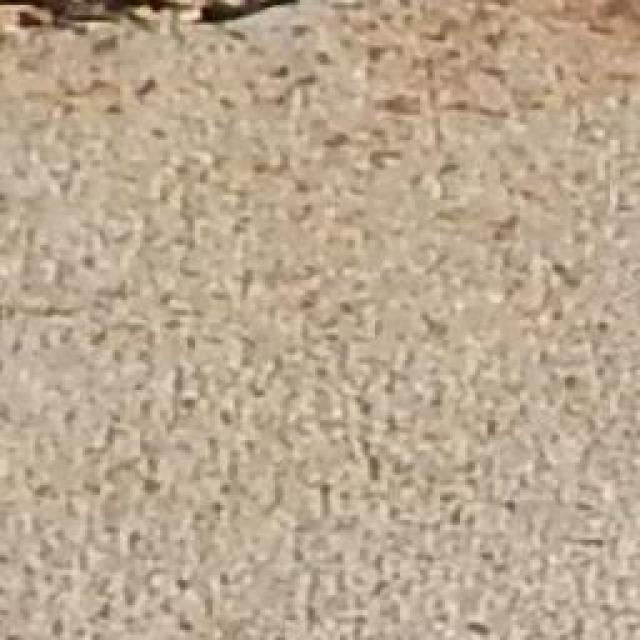concrete-crack: (1, 0, 309, 38)
